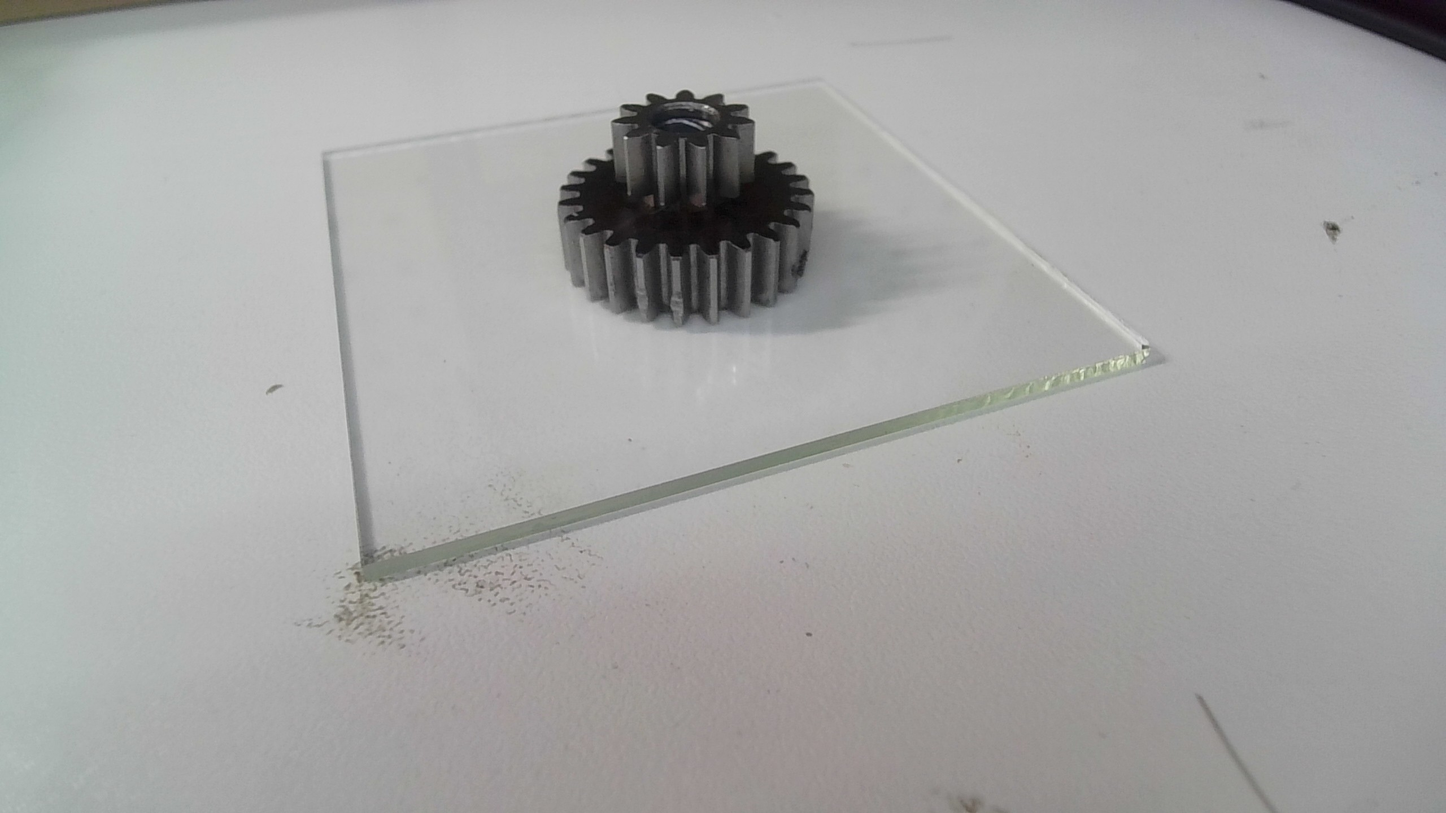gear: (554, 88, 818, 335)
